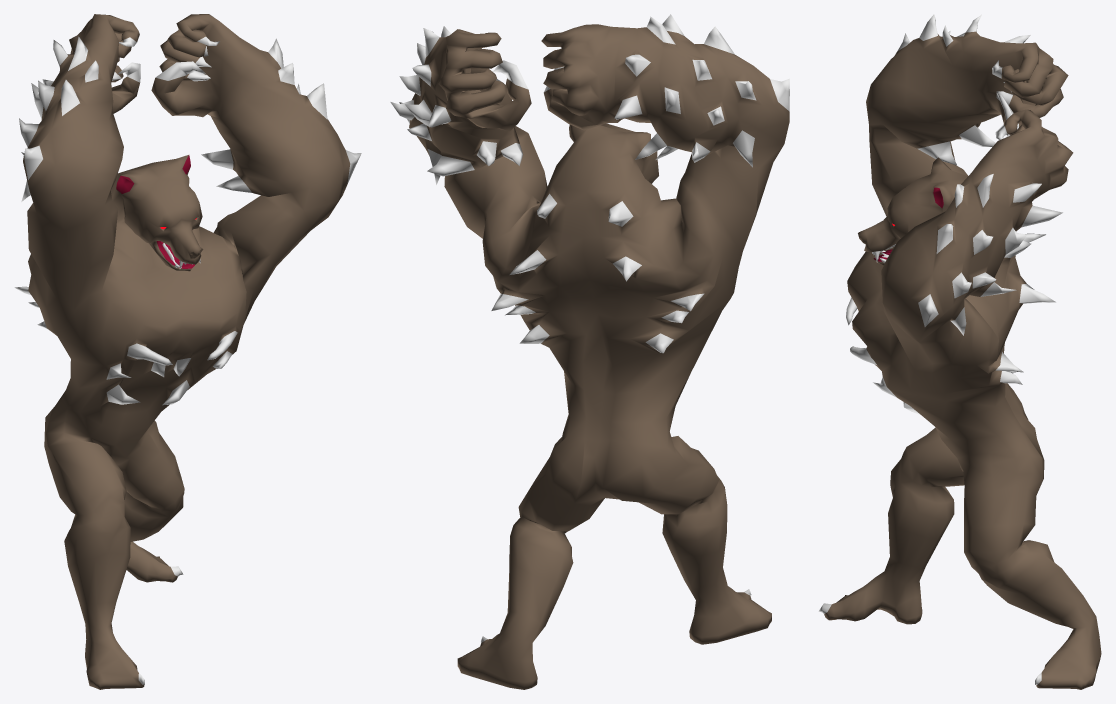
File: bear_AP 1.fbx
3 renders of one model, left to right at view 1: azimuth 30°, elevation 25°; view 2: azimuth 150°, elevation 25°; view 3: azimuth 270°, elevation 25°, orthographic. The views are drawn at different scales.
Visible parts, largest first — view 1: tooth_2_retopo; view 2: tooth_2_retopo; view 3: tooth_2_retopo.
Boxes of the visible parts, left/top/right/bottom form: tooth_2_retopo: left=14, top=14, right=361, bottom=689; tooth_2_retopo: left=390, top=14, right=789, bottom=689; tooth_2_retopo: left=818, top=14, right=1101, bottom=689.
Bounding box in the file's own units: 143 × 235 × 98.04.
